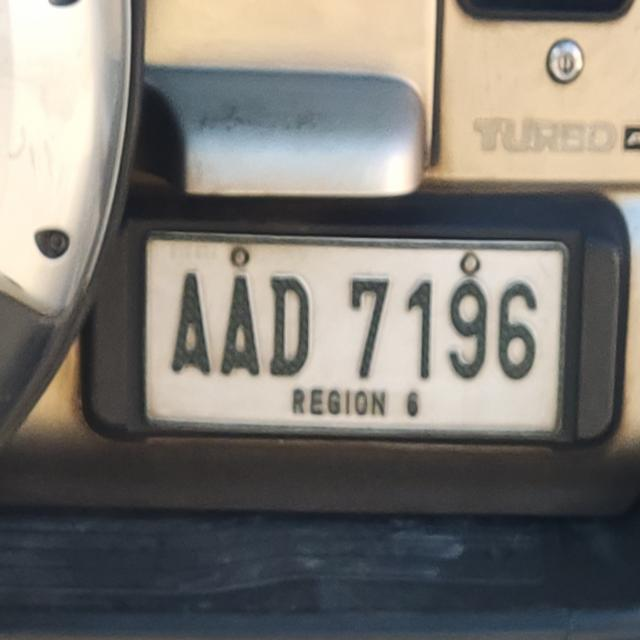plate: (134, 220, 576, 452)
